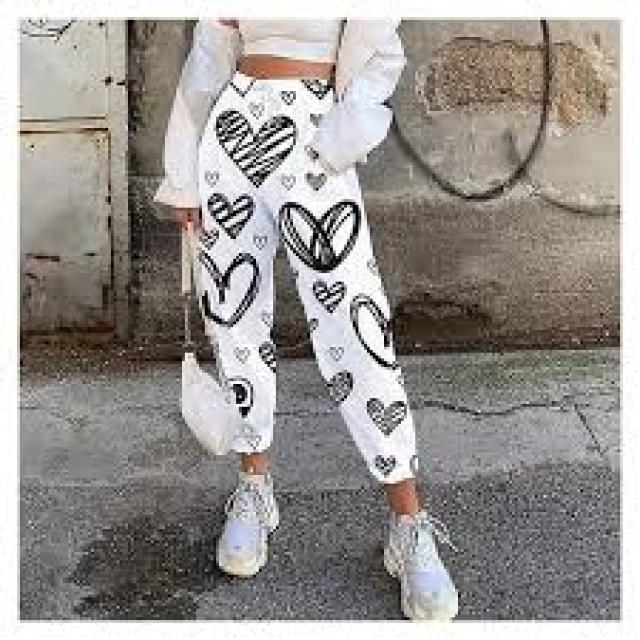pants: (176, 71, 425, 478)
